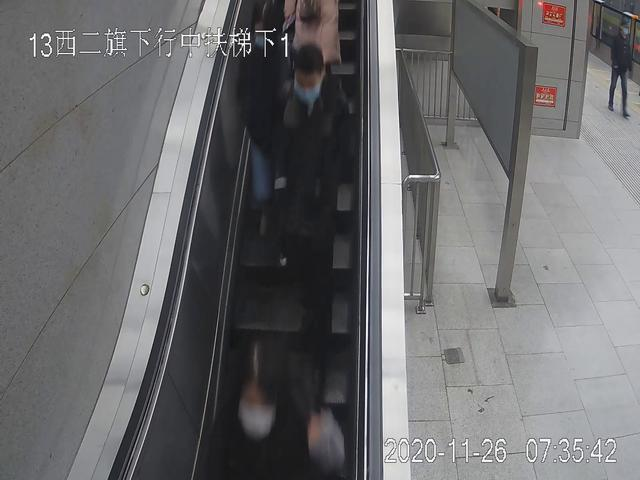person: (274, 42, 356, 342), (241, 1, 302, 240), (607, 21, 633, 120)
